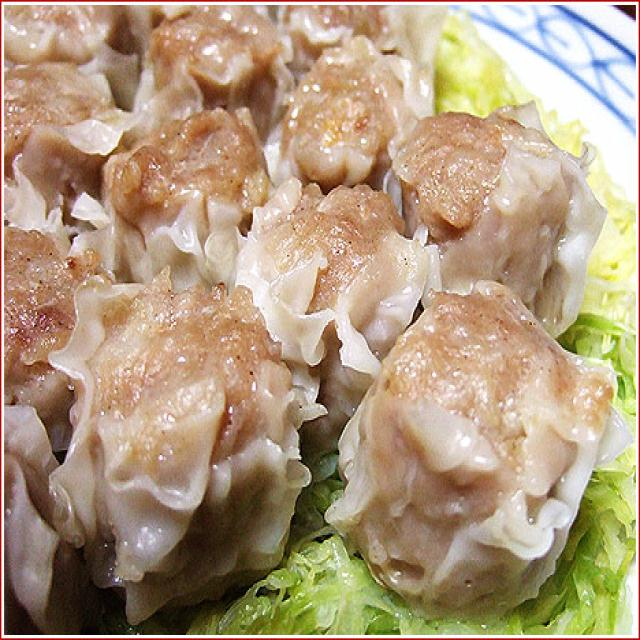带馅早点: (0, 0, 617, 630)
